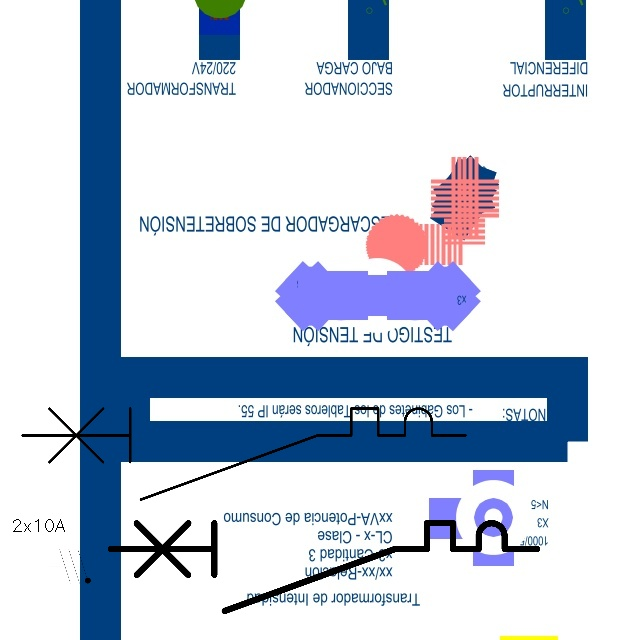interruptor_termomagnetico: (11, 397, 477, 511), (99, 512, 547, 621)
